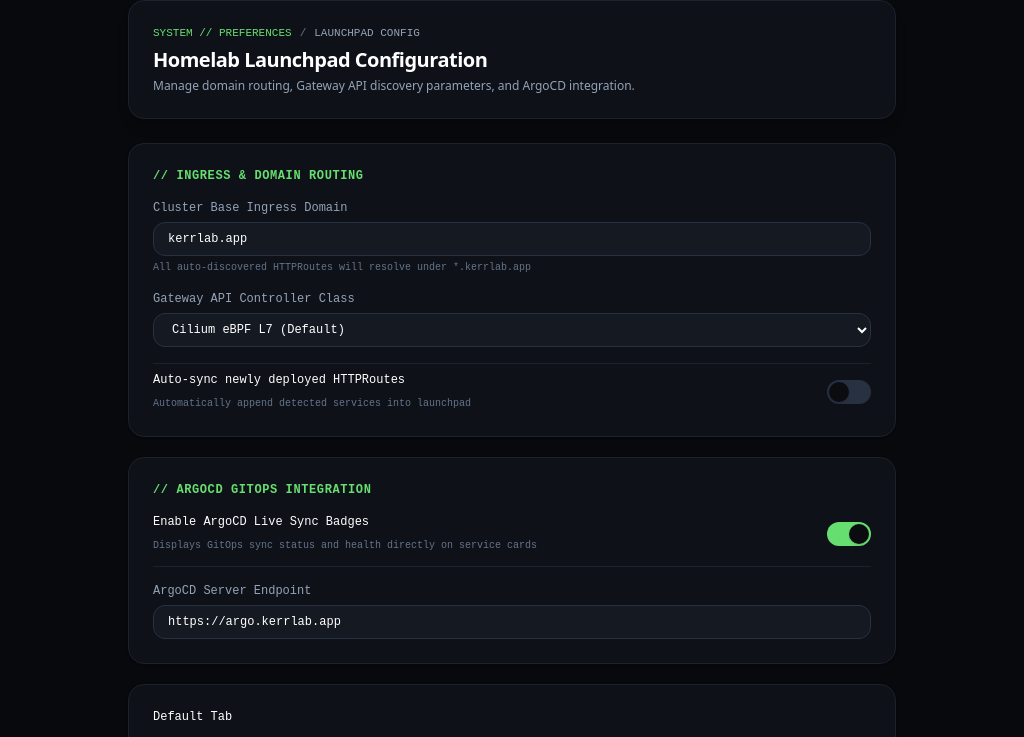
Test: ConfigView › editing preferences and saving shows a confirmation
The width and height of the screenshot is (1024, 737).
Replace the text in the field below "Cluster Base Ingress Domain" with "lab.example.com" at coordinates (512, 238), box [153, 222, 871, 256]
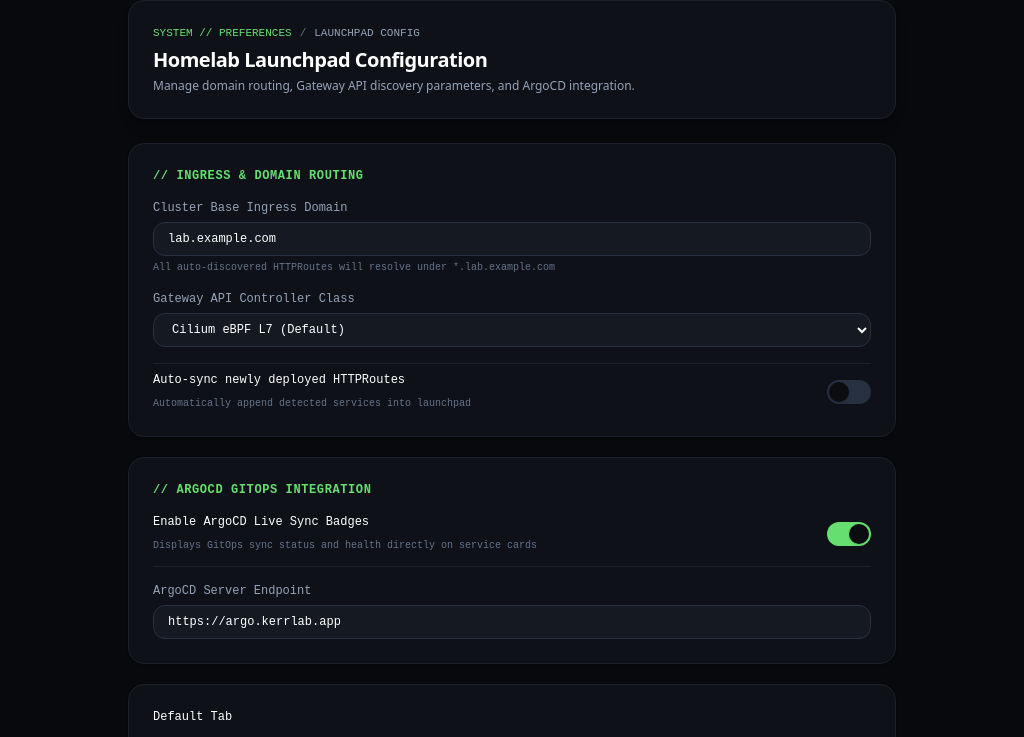
Select "Traefik IngressRoute" in the 1st dropdown at coordinates (512, 330), box [153, 312, 871, 346]
(page scrolled)
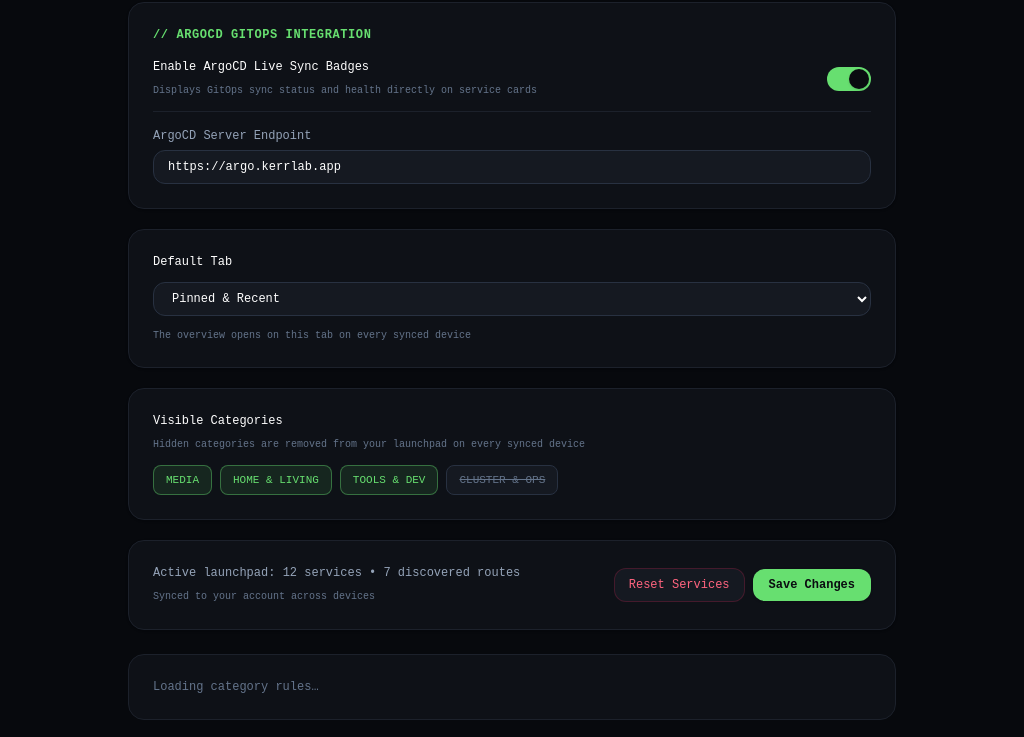
Click the button "Save Changes" at coordinates (812, 585), box [753, 569, 871, 601]
(page scrolled)
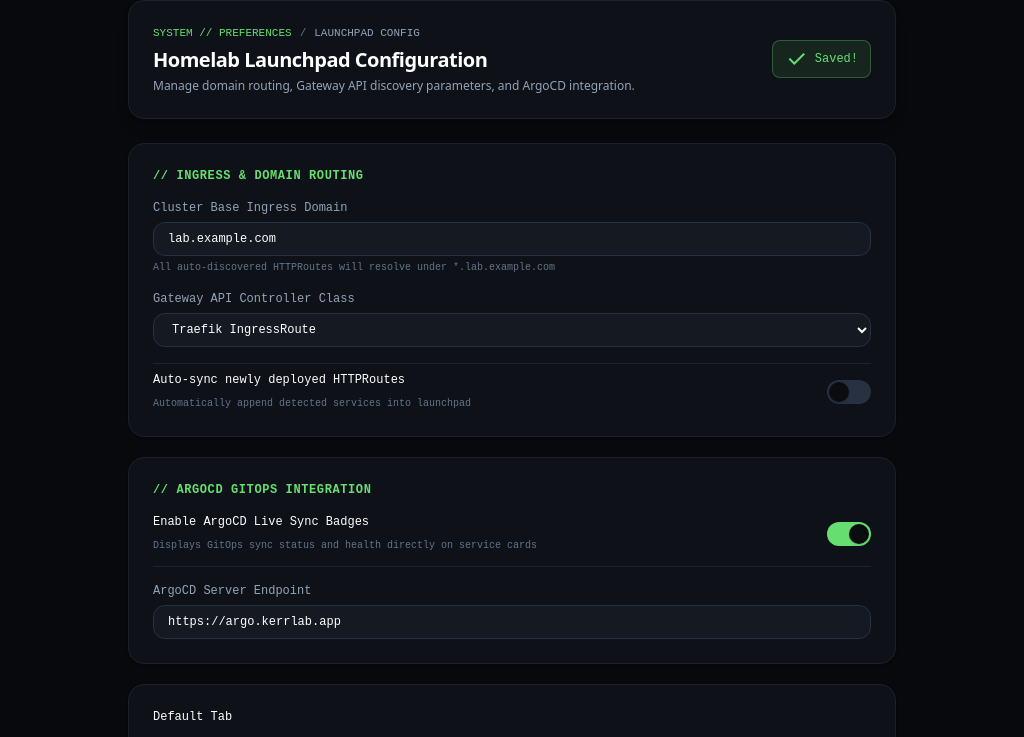
Now the text "Saved!" is shown, box [815, 51, 858, 67]
